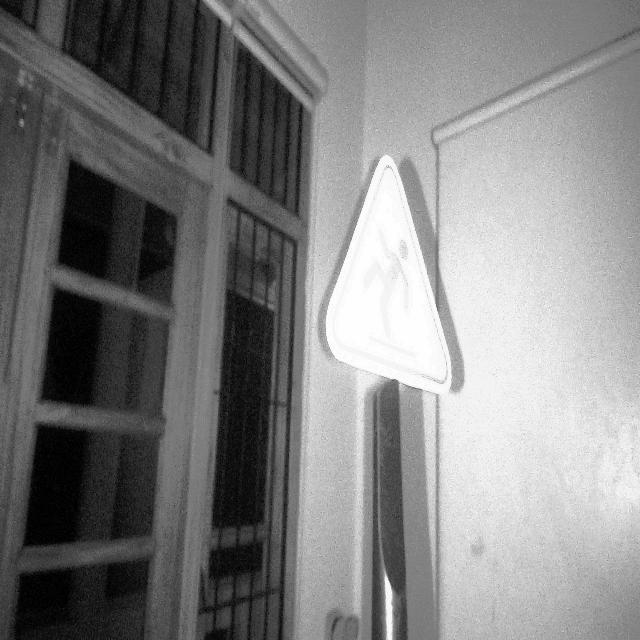Sign: (324, 153, 453, 397)
